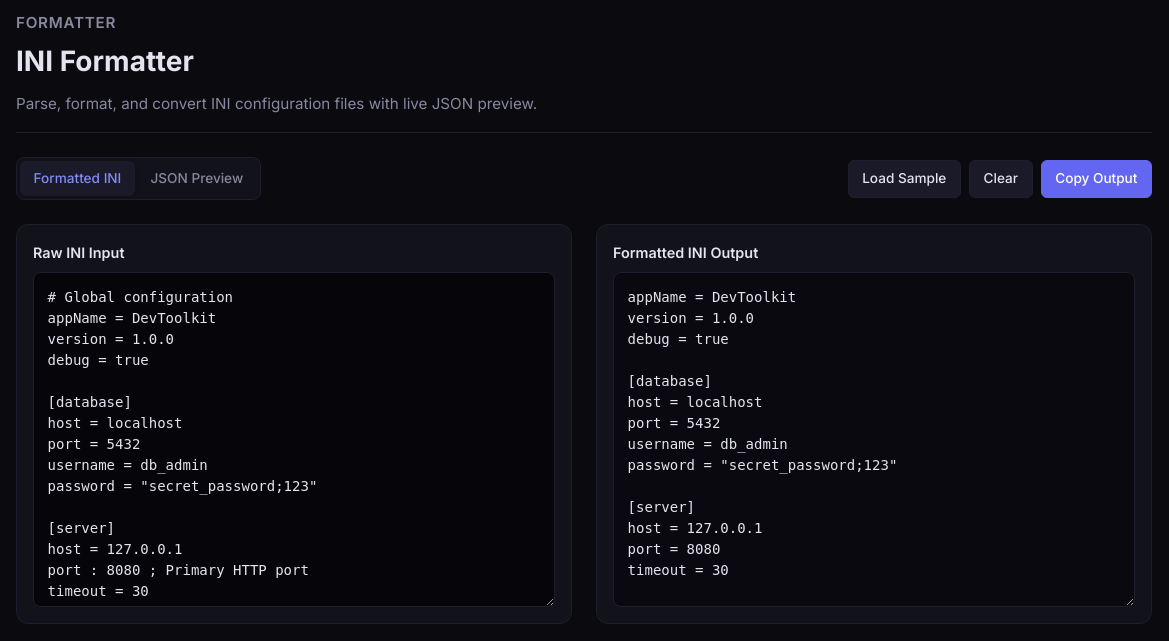
Test: IniFormatterTool › clears input when Clear button is clicked
Click the button "Clear" at point(1001, 179), box [969,160,1033,198]
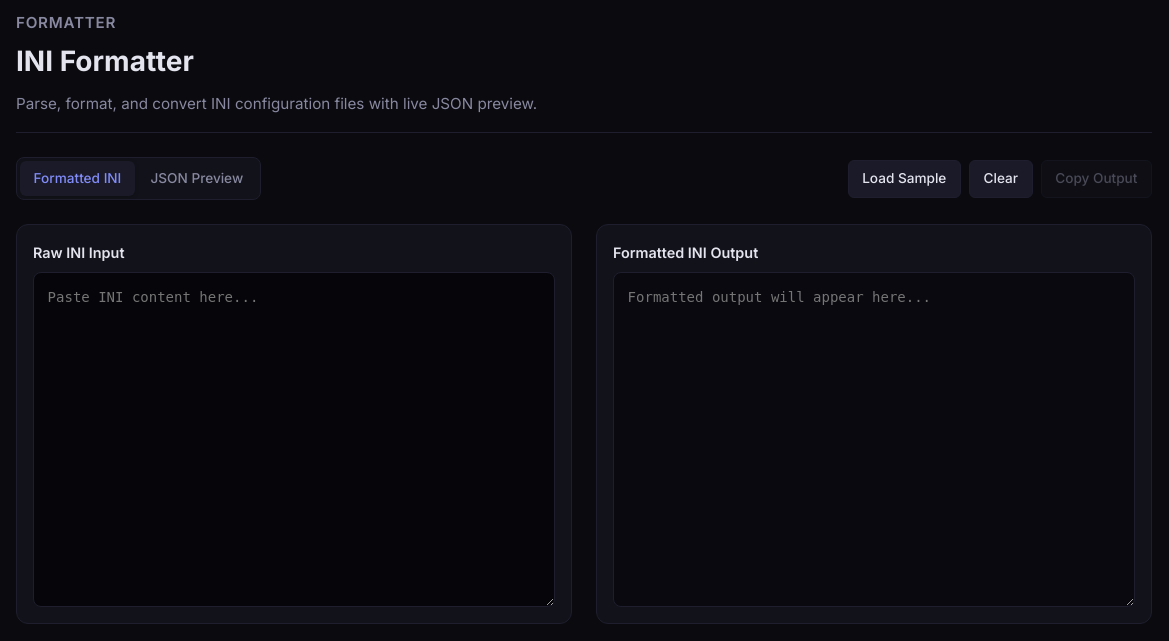
Check: the text box labelled "Raw INI Input" is empty, box [33,272,555,607]
Check: the text box labelled "Formatted INI Output" is empty, box [613,272,1135,607]
